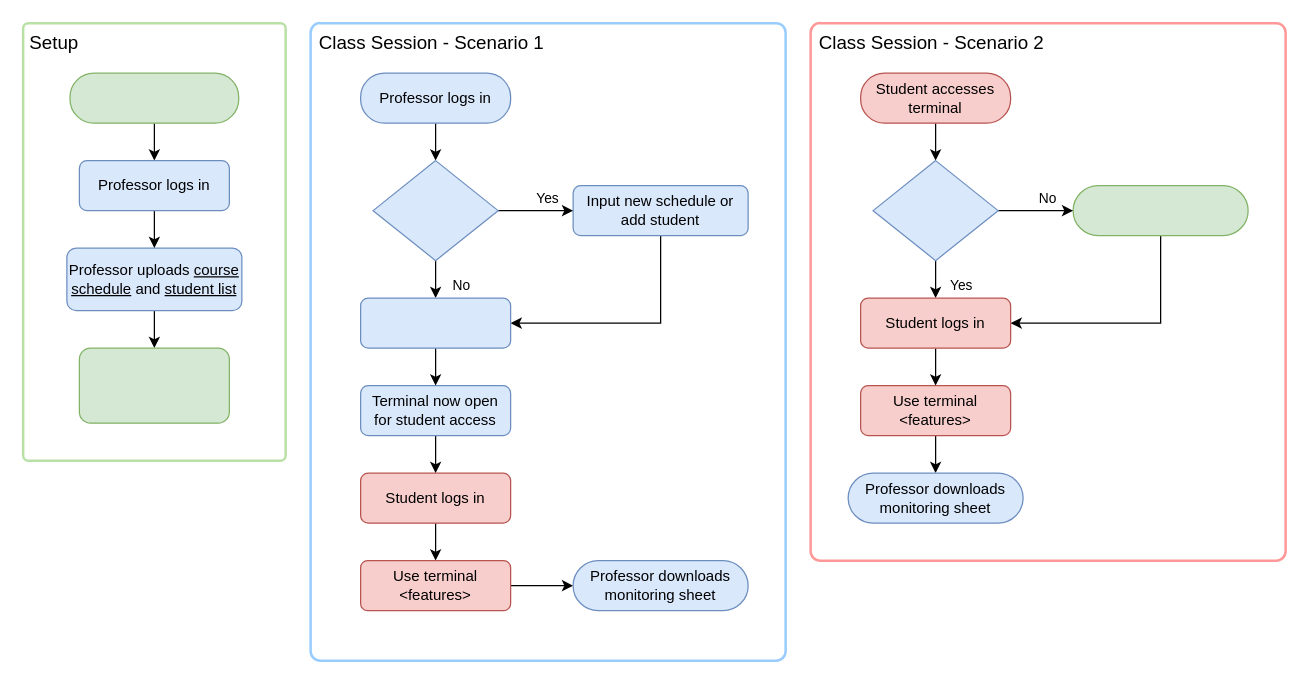
Some shapes in this 1308 by 683 pixel diagram are drawn without their labels. Each missing label, with the box of its shape:
Admin creates account for professor: (69, 72, 239, 123)
New course info?: (372, 159, 498, 261)
Professor logged in?: (872, 159, 998, 261)
Select schedule: (359, 297, 511, 348)
Terminal locked: (1072, 184, 1248, 236)
Web app creates account for each student: (78, 347, 229, 423)
